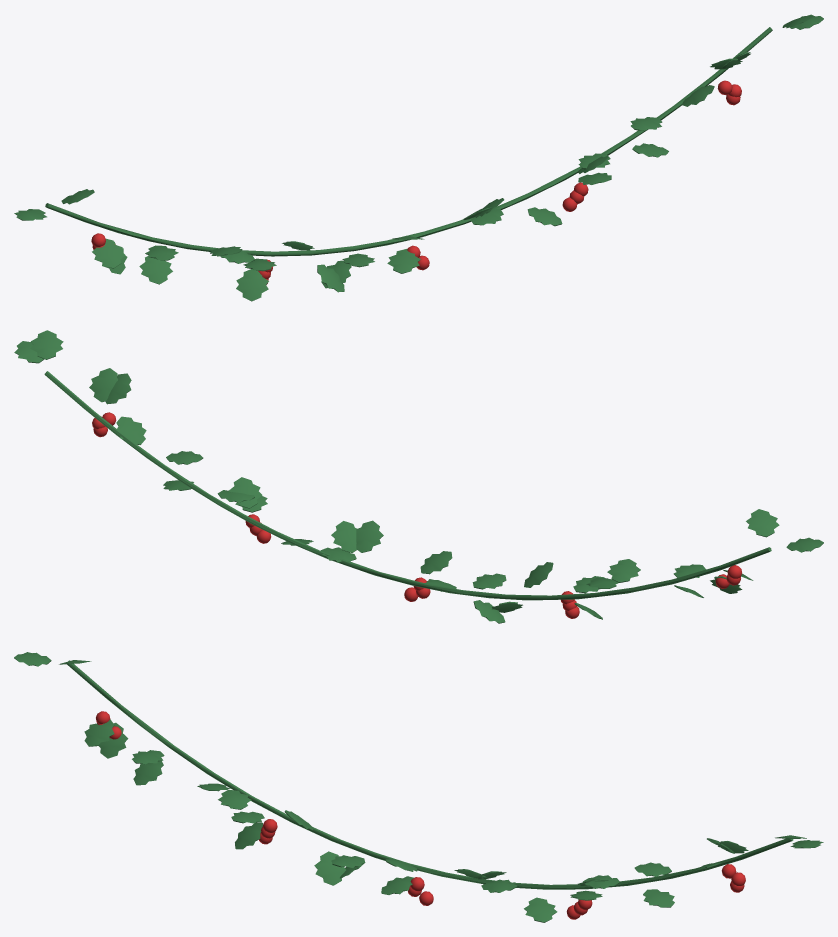
The model's file is lp_holly.glb.
The picture shows the model from 3 angles, top to bottom: view 1: azimuth 30°, elevation 25°; view 2: azimuth 150°, elevation 25°; view 3: azimuth 330°, elevation 25°; orthographic projection.
Visible parts, largest first — view 1: lp_holly; view 2: lp_holly; view 3: lp_holly.
Part boxes in pixels (<box>): lp_holly: <box>14,14,823,301</box>; lp_holly: <box>14,330,823,623</box>; lp_holly: <box>14,652,823,922</box>.
Bounding box in the file's own units: 1.11 × 0.2242 × 0.0743.
